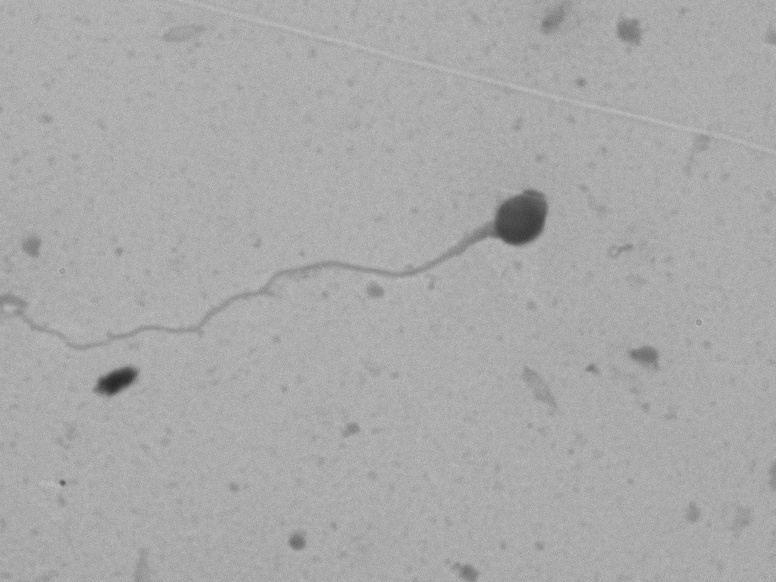Abnormal: (10, 147, 583, 359)
